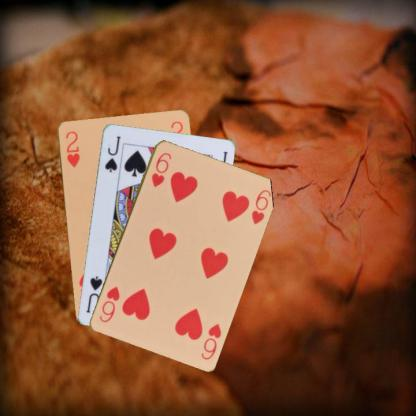2h: (63, 128, 81, 169)
6h: (198, 320, 223, 361), (148, 149, 173, 188)
Js: (102, 133, 122, 173)
